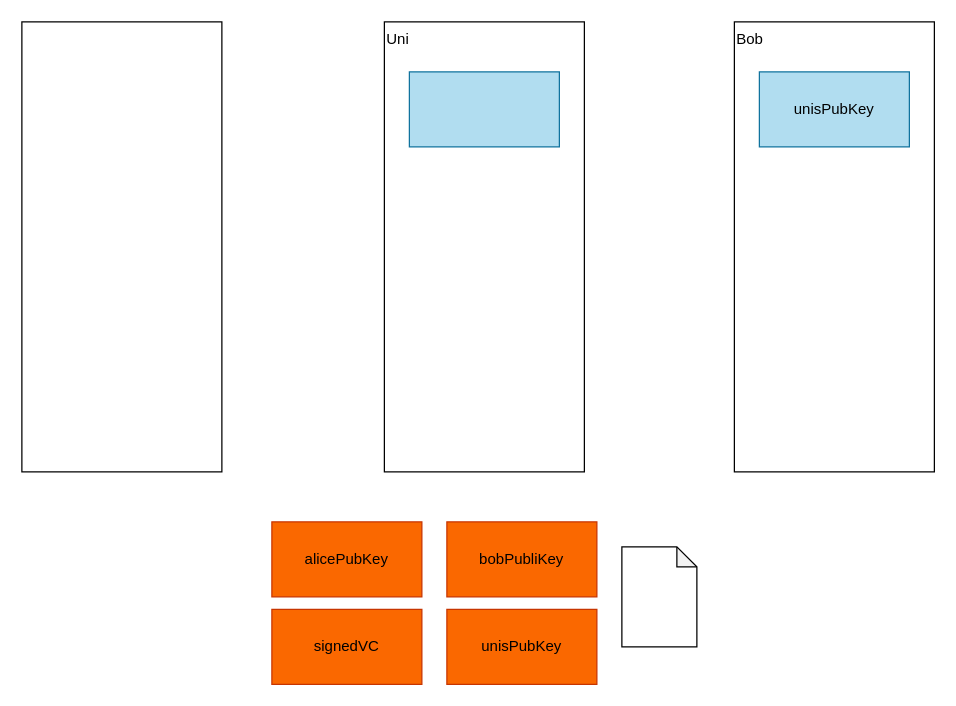
Image size: 956x706. Some labels were removed from this diagram. The shapes that lost their labels are listed below. From the top down, each one's centre as x and y in pixels, then its label:
At (x=483, y=109): "bobPubKey".
At (x=121, y=246): "Alice".
At (x=659, y=596): "Mail VC Signature".
